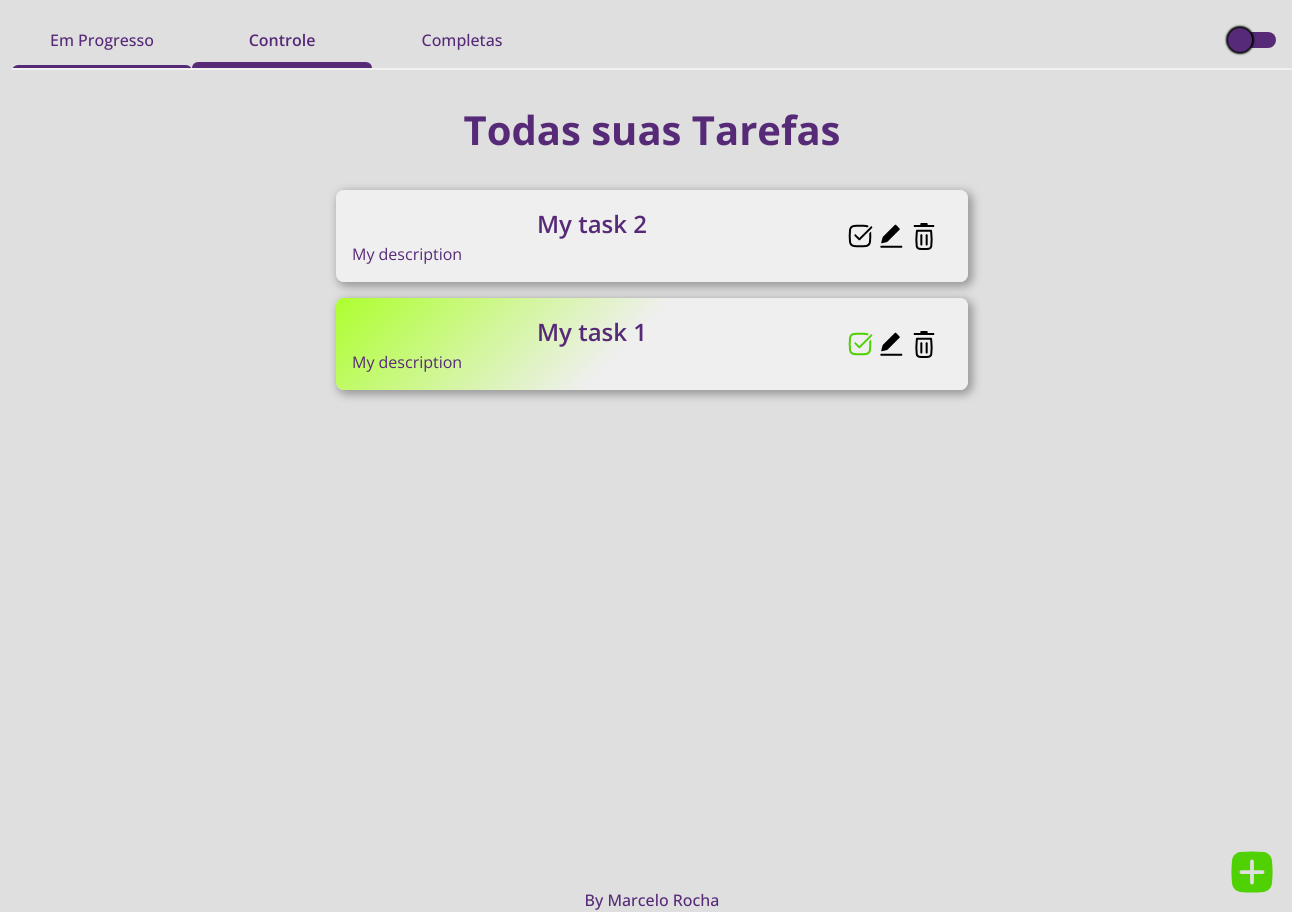
Test case: <App /> › should enter complete tab
The image size is (1292, 912).
Click the button "Completas" at [462, 40], box [372, 12, 552, 68]
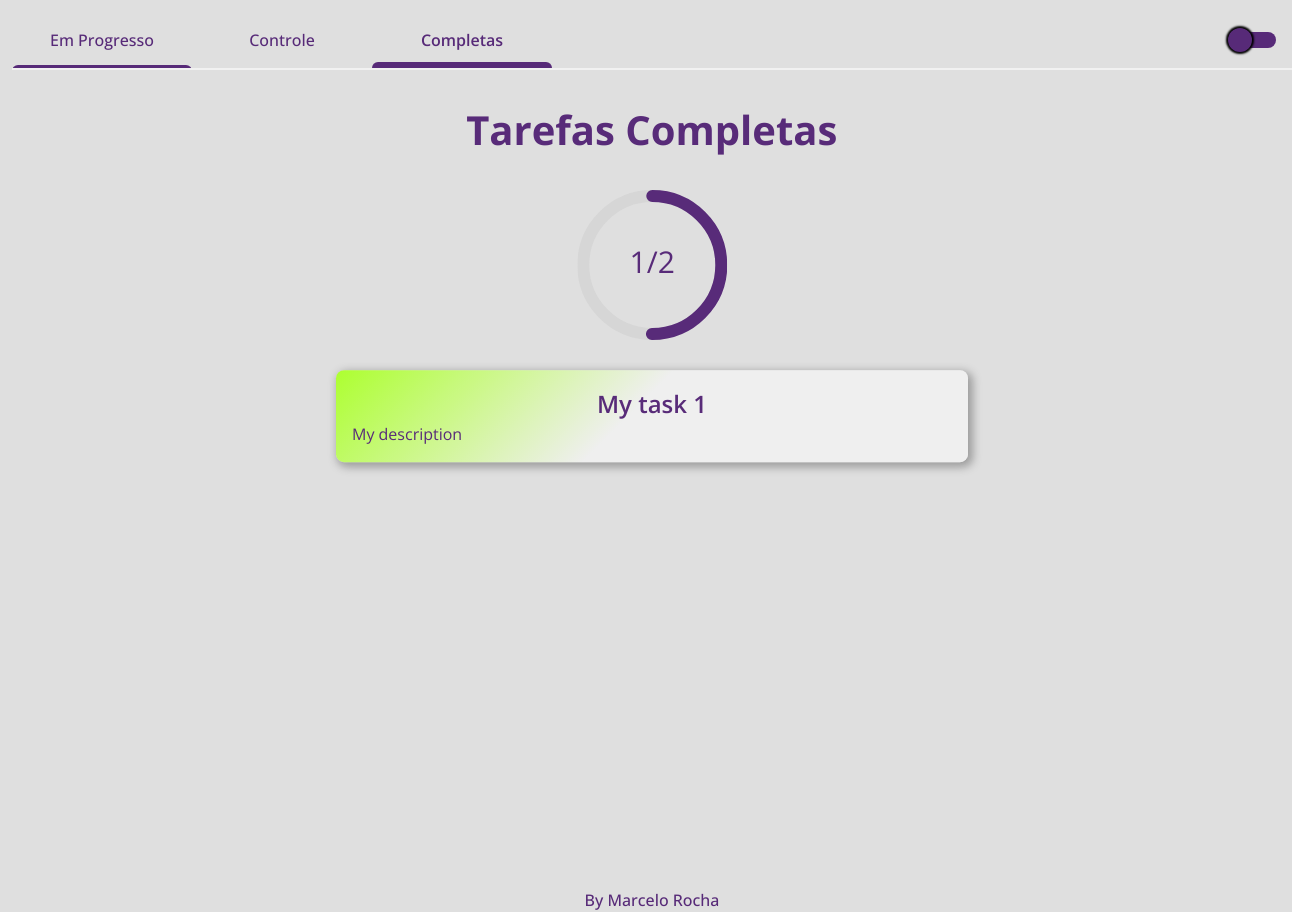
Expected: the button "Em Progresso" is shown, [12, 12, 192, 68]
Expected: the heading "Tarefas Completas" is shown, [466, 100, 837, 160]
Expected: the heading "Todas suas Tarefas" is gone
